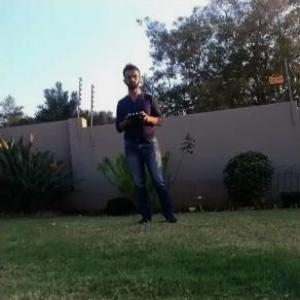follow: (113, 55, 183, 224)
